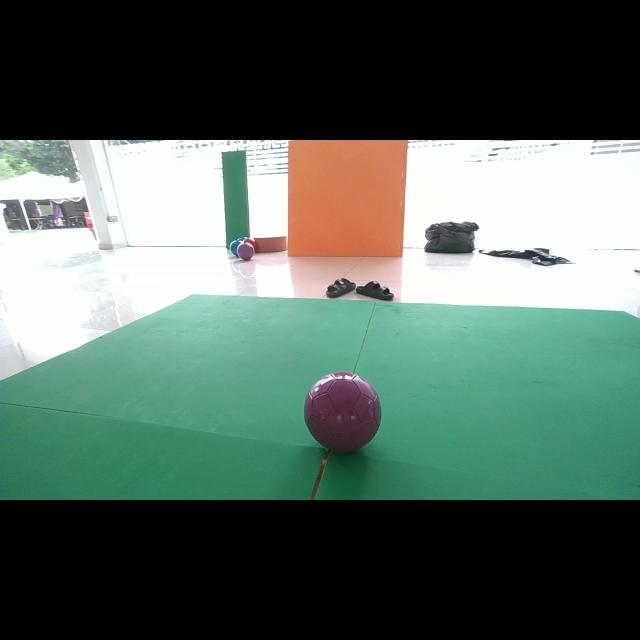P: (304, 371, 381, 452)
